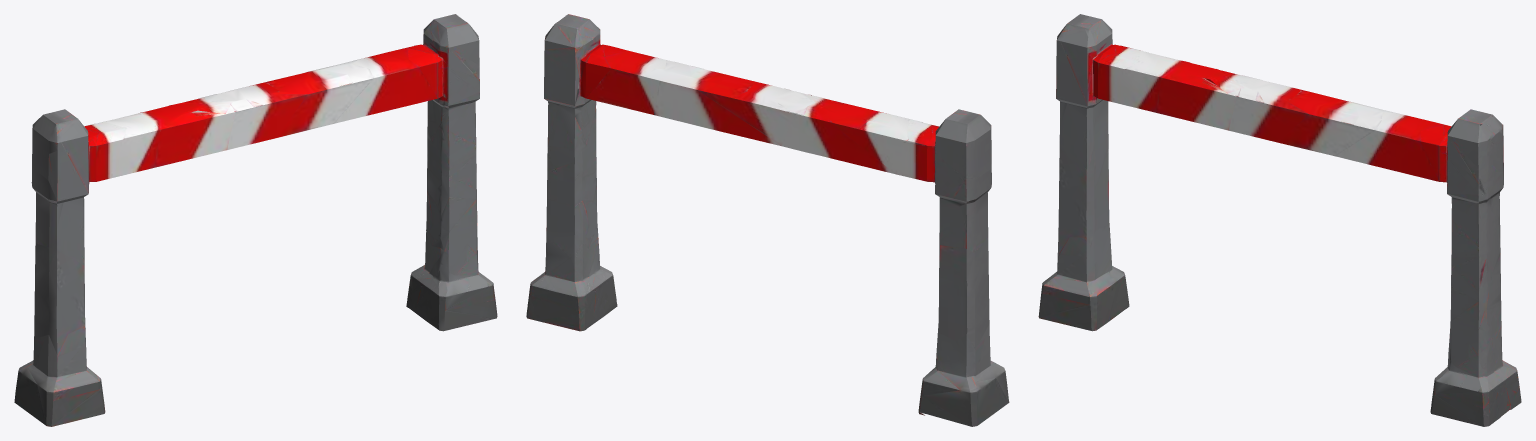
Rendered from boom.glb.
The picture shows the model from 3 angles, left to right: view 1: azimuth 30°, elevation 25°; view 2: azimuth 150°, elevation 25°; view 3: azimuth 330°, elevation 25°; orthographic projection.
Bounding box in the file's own units: 1.9 × 1.17 × 0.2682.
1 material, 1 textured.
